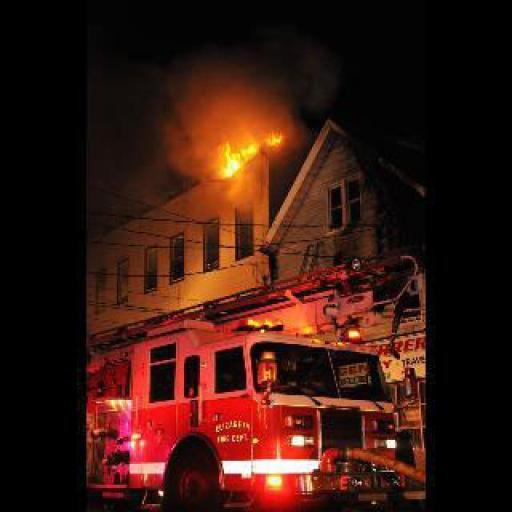smoke: (194, 115, 291, 195)
